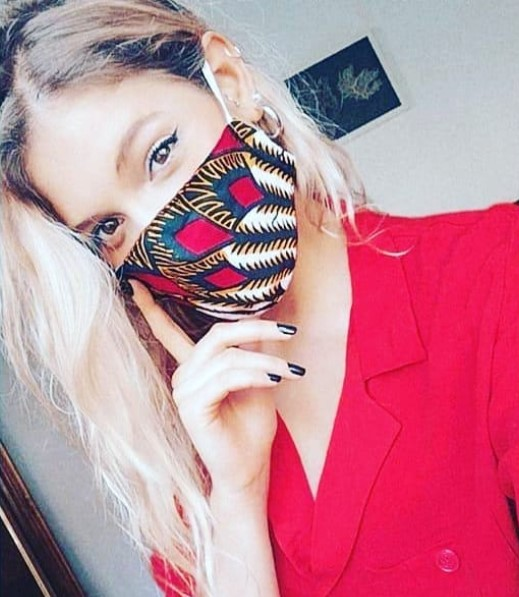face_with_mask: (8, 0, 303, 327)
